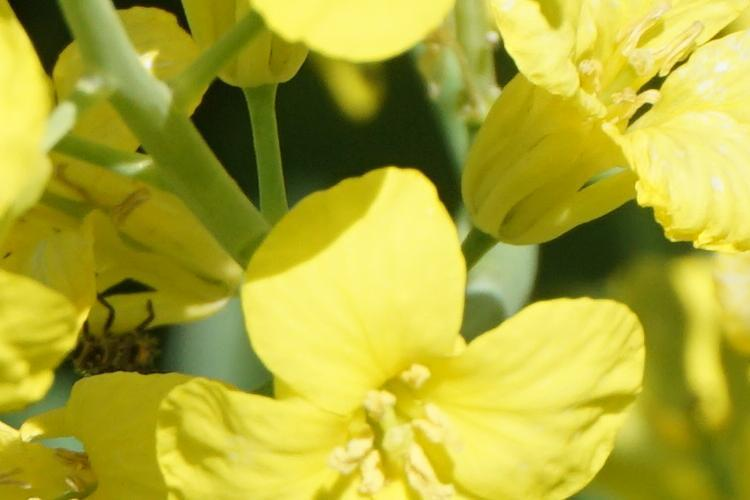yellow: (105, 172, 645, 500), (468, 14, 750, 277)
